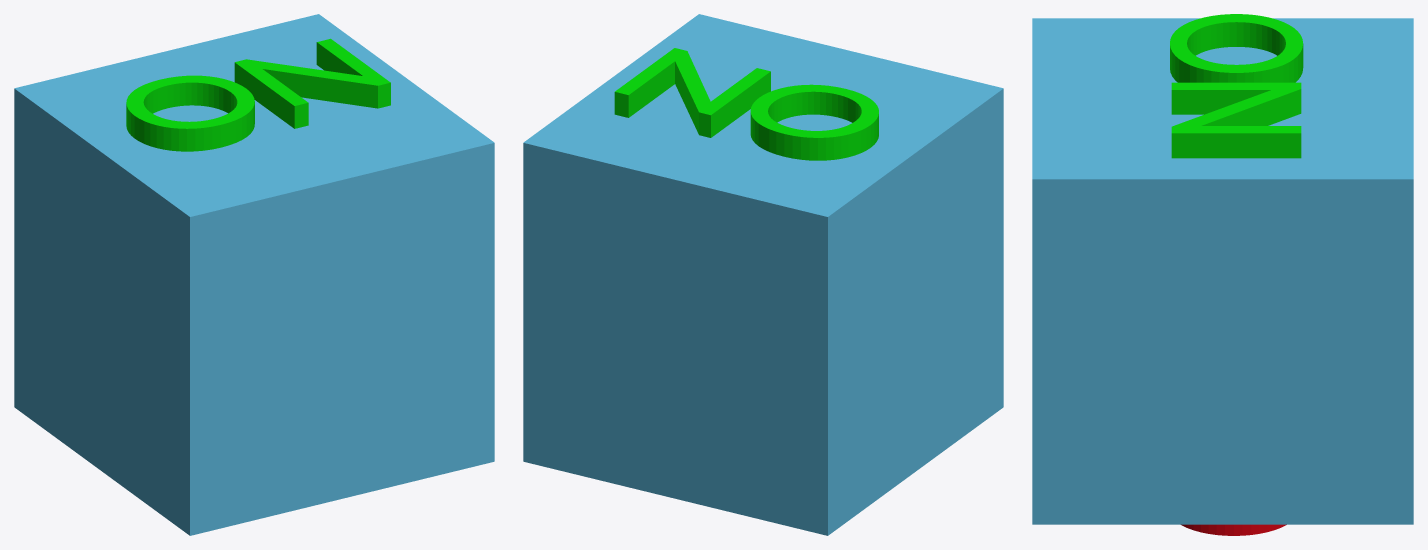
Rendered from on_off_button.glb.
3 views of the same model, side by side, from view 1: azimuth 30°, elevation 25°; view 2: azimuth 150°, elevation 25°; view 3: azimuth 270°, elevation 25° (orthographic). The views are drawn at different scales.
Parts seen in each view (by area): view 1: Cube, Text; view 2: Cube, Text; view 3: Cube, Text, Text.001.
Part boxes in pixels (left/top/right/bottom): Cube: left=14, top=14, right=494, bottom=535; Text: left=126, top=38, right=390, bottom=151; Cube: left=523, top=14, right=1003, bottom=535; Text: left=614, top=48, right=878, bottom=160; Cube: left=1032, top=18, right=1413, bottom=524; Text: left=1170, top=14, right=1303, bottom=158; Text.001: left=1181, top=524, right=1286, bottom=535.
Bounding box in the file's own units: 2 × 2.27 × 2.
